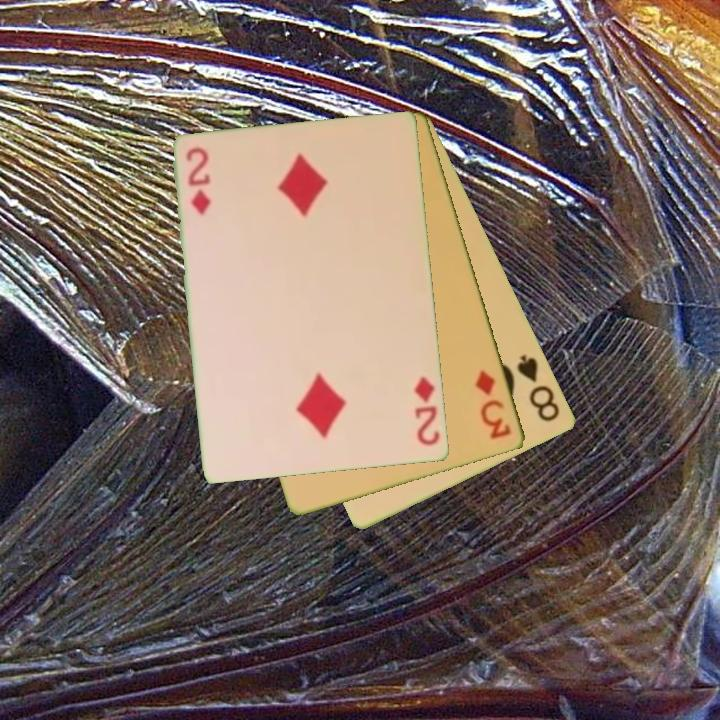2d: (411, 374, 444, 449), (183, 144, 214, 218)
3d: (472, 367, 515, 443)
8s: (514, 351, 563, 425)
